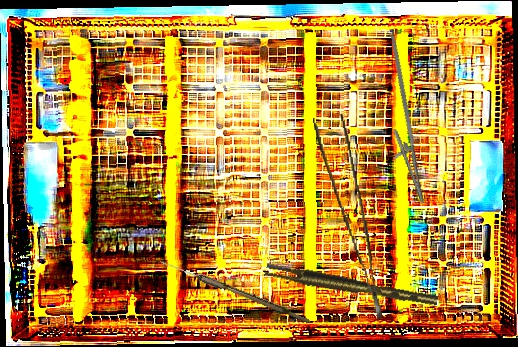Needle Holder: (358, 34, 445, 209)
Surgical Spoon: (157, 258, 313, 324)
Tissue Forceps: (312, 112, 383, 324), (264, 257, 439, 315)
